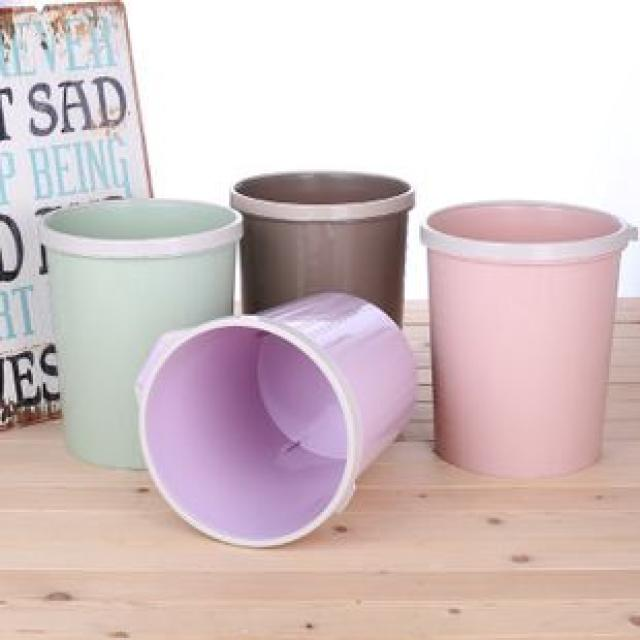dustbin: (131, 288, 418, 550), (419, 193, 640, 487), (36, 195, 250, 477), (229, 166, 419, 322)
